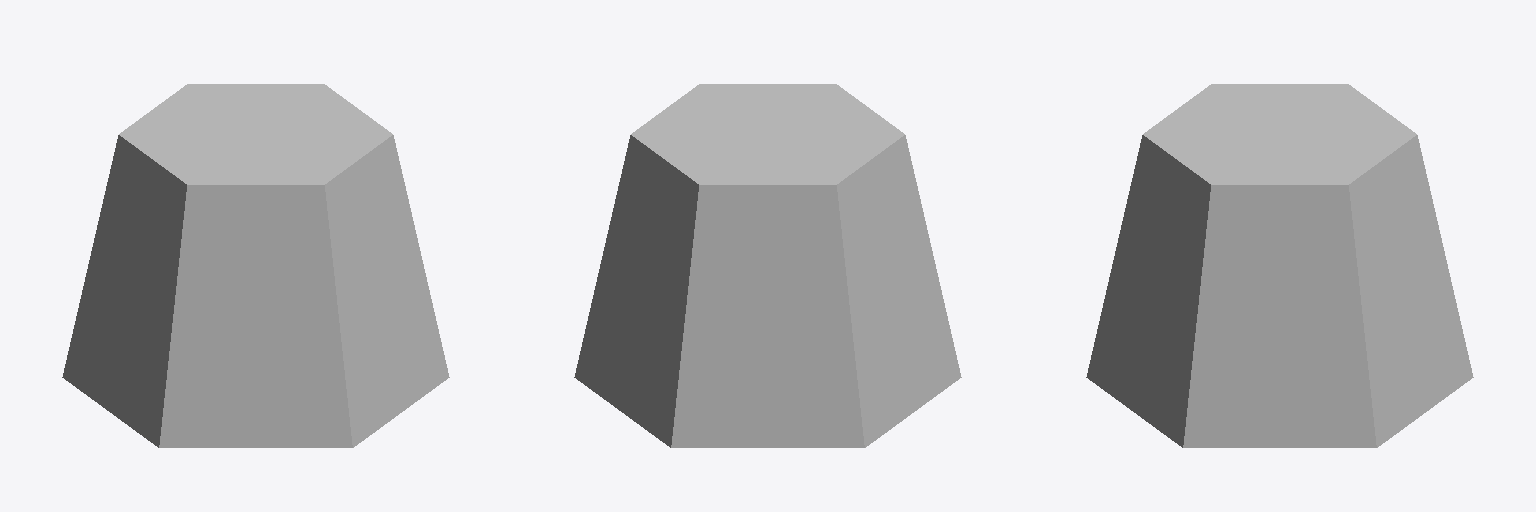
The model's file is pudding.obj.
3 renders of one model, left to right at view 1: azimuth 30°, elevation 25°; view 2: azimuth 150°, elevation 25°; view 3: azimuth 270°, elevation 25°, orthographic.
Visible parts, largest first — view 1: pudding; view 2: pudding; view 3: pudding.
Part boxes in pixels (bbox=[...]): pudding: bbox=[62, 84, 449, 447]; pudding: bbox=[574, 84, 961, 447]; pudding: bbox=[1086, 84, 1473, 447].
Size of the model in its own units: 0.2499 by 0.1998 by 0.2886.